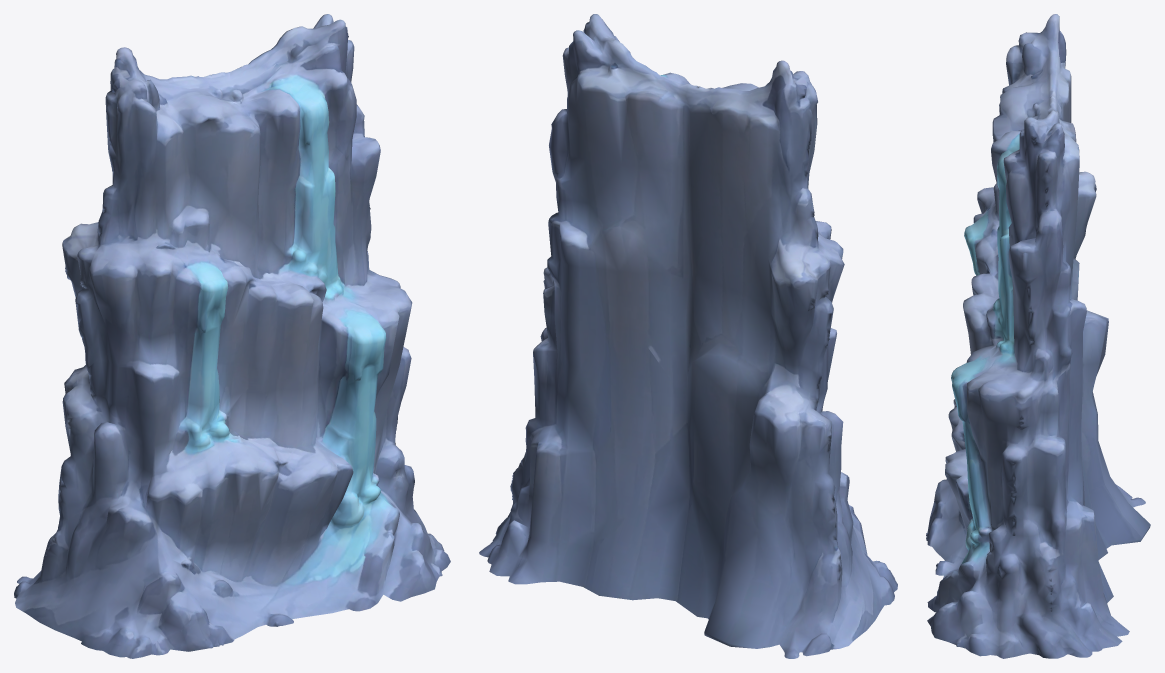
Rendered from SM_Tripo_FrostCanyonCliff.glb.
The picture shows the model from 3 angles, left to right: view 1: azimuth 30°, elevation 25°; view 2: azimuth 150°, elevation 25°; view 3: azimuth 270°, elevation 25°; orthographic projection. The views are drawn at different scales.
Parts seen in each view (by area): view 1: SM_Tripo_FrostCanyonCliff_LOD0; view 2: SM_Tripo_FrostCanyonCliff_LOD0; view 3: SM_Tripo_FrostCanyonCliff_LOD0.
Part boxes in pixels (x1,y1,x2,y2): SM_Tripo_FrostCanyonCliff_LOD0: [14, 14, 450, 658]; SM_Tripo_FrostCanyonCliff_LOD0: [479, 14, 897, 658]; SM_Tripo_FrostCanyonCliff_LOD0: [926, 14, 1150, 658].
Size of what is drawn, in the model's own units: 14.17 by 19.74 by 7.84.
Materials: 1 (1 with a texture image).
